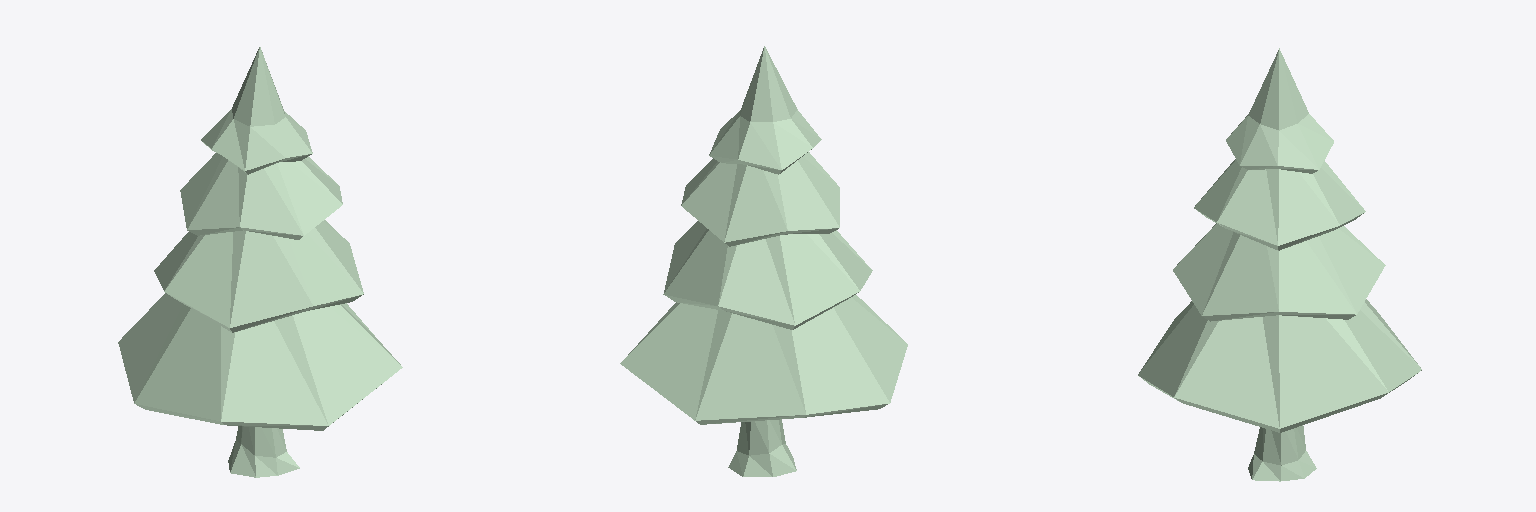
Rendered from tri_tree.obj.
The picture shows the model from 3 angles: view 1: azimuth 30°, elevation 25°; view 2: azimuth 150°, elevation 25°; view 3: azimuth 270°, elevation 25°; orthographic projection.
Parts seen in each view (by area): view 1: Tree_Spruce_small_02_Cylinder.003; view 2: Tree_Spruce_small_02_Cylinder.003; view 3: Tree_Spruce_small_02_Cylinder.003.
Part boxes in pixels (bbox=[...]): Tree_Spruce_small_02_Cylinder.003: bbox=[118, 47, 402, 477]; Tree_Spruce_small_02_Cylinder.003: bbox=[620, 46, 907, 476]; Tree_Spruce_small_02_Cylinder.003: bbox=[1138, 48, 1421, 481].
Size of the model in its own units: 11.12 by 18.25 by 11.24.